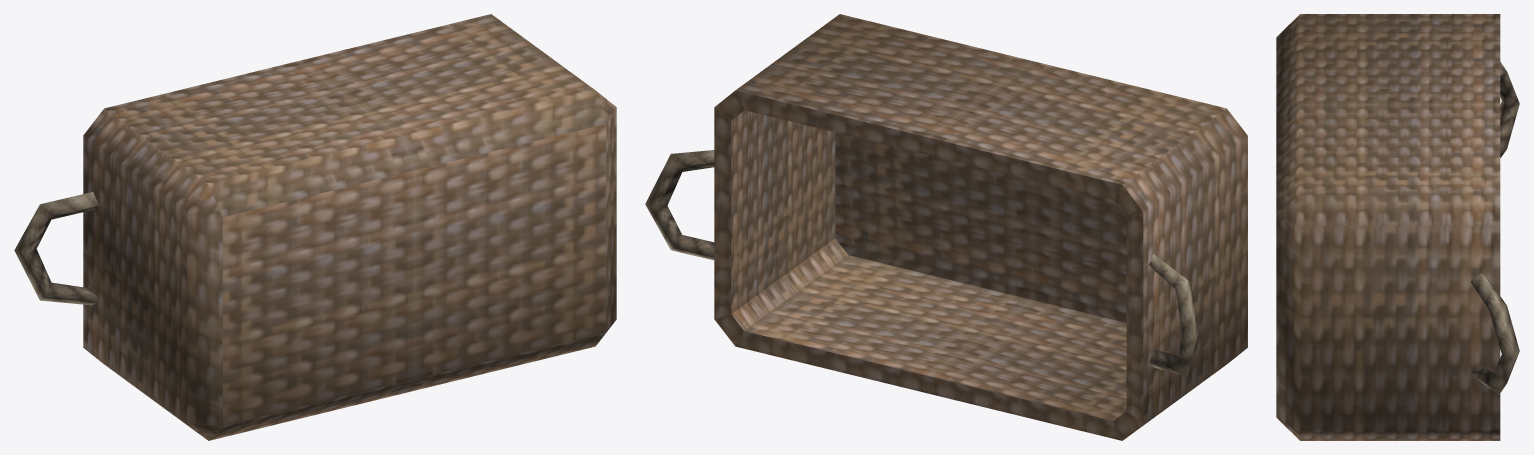
File: Basket_Square_B.fbx
The picture shows the model from 3 angles, left to right: view 1: azimuth 30°, elevation 25°; view 2: azimuth 150°, elevation 25°; view 3: azimuth 270°, elevation 25°; orthographic projection. The views are drawn at different scales.
Parts seen in each view (by area): view 1: Basket_Square_B; view 2: Basket_Square_B; view 3: Basket_Square_B.
Boxes of the visible parts, x1,y1,x2,y2 form: Basket_Square_B: (14, 14, 616, 440); Basket_Square_B: (645, 14, 1247, 440); Basket_Square_B: (1276, 14, 1519, 440).
Size of the model in its own units: 1.49 by 0.6604 by 0.5934.
